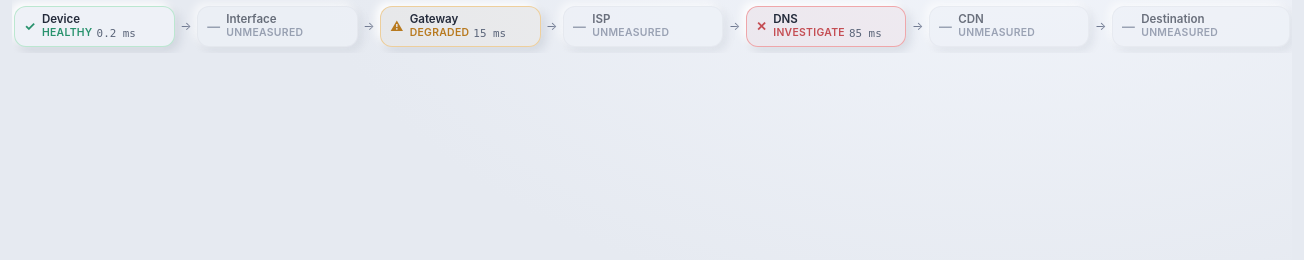
Scenario: DiagnosticChainStrip › handles and displays probe execution failure gracefully
The width and height of the screenshot is (1304, 260).
Click the button with aria-label "Gateway Hop". click: (460, 26)
box: left=380, top=6, right=540, bottom=47
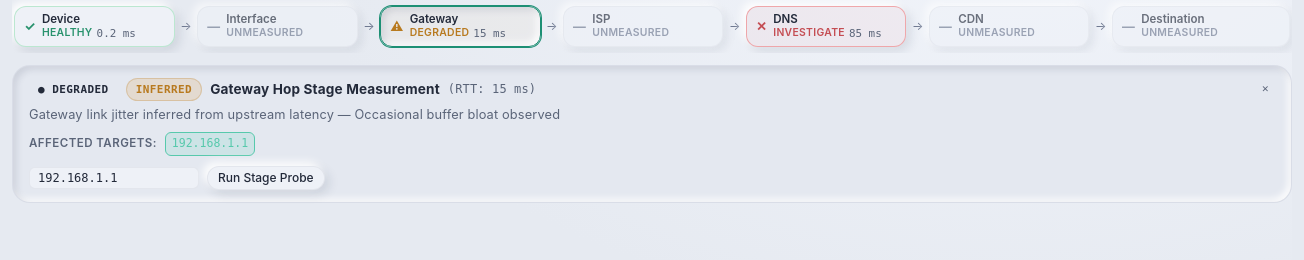
Click the button with test id "run-stage-probe-btn". click: (266, 178)
box: left=207, top=166, right=325, bottom=190
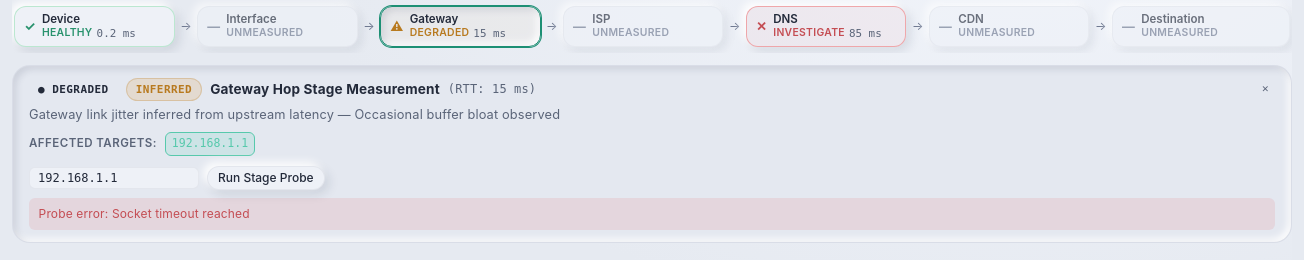
Now the text with test id "stage-probe-error" reads "Probe error: Socket timeout reached", box left=29, top=198, right=1275, bottom=230
